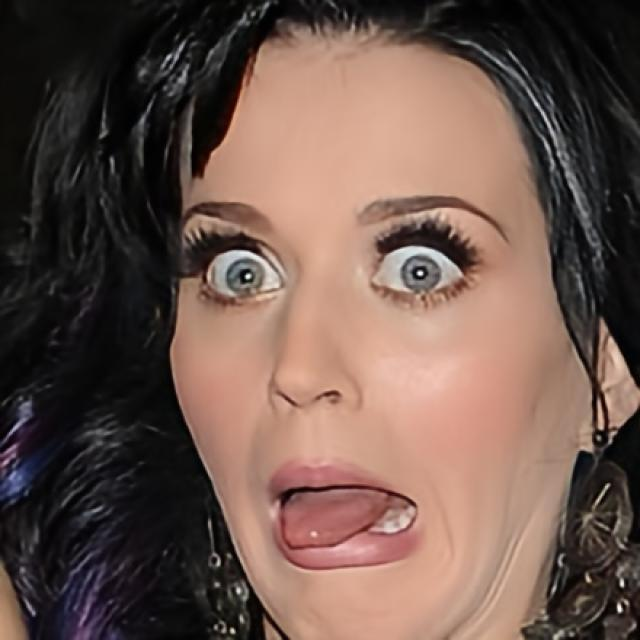fear: (162, 6, 580, 640)
